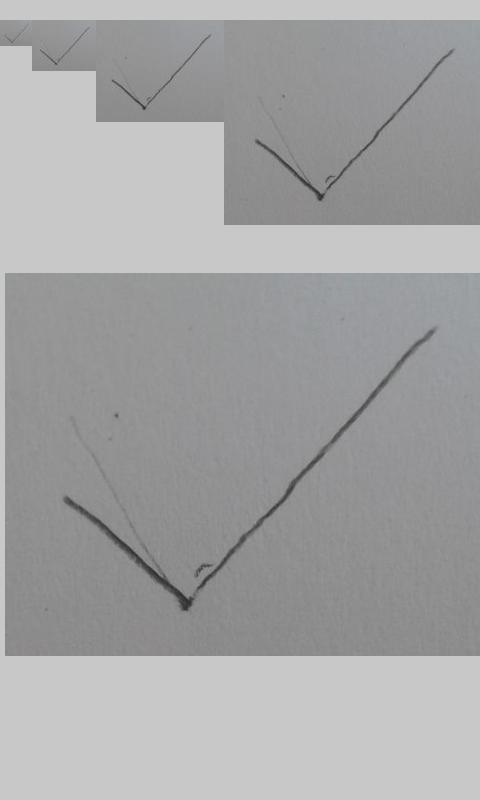check_box: (65, 330, 436, 609), (255, 49, 454, 200), (111, 34, 212, 110), (39, 27, 90, 65), (4, 23, 29, 43)
